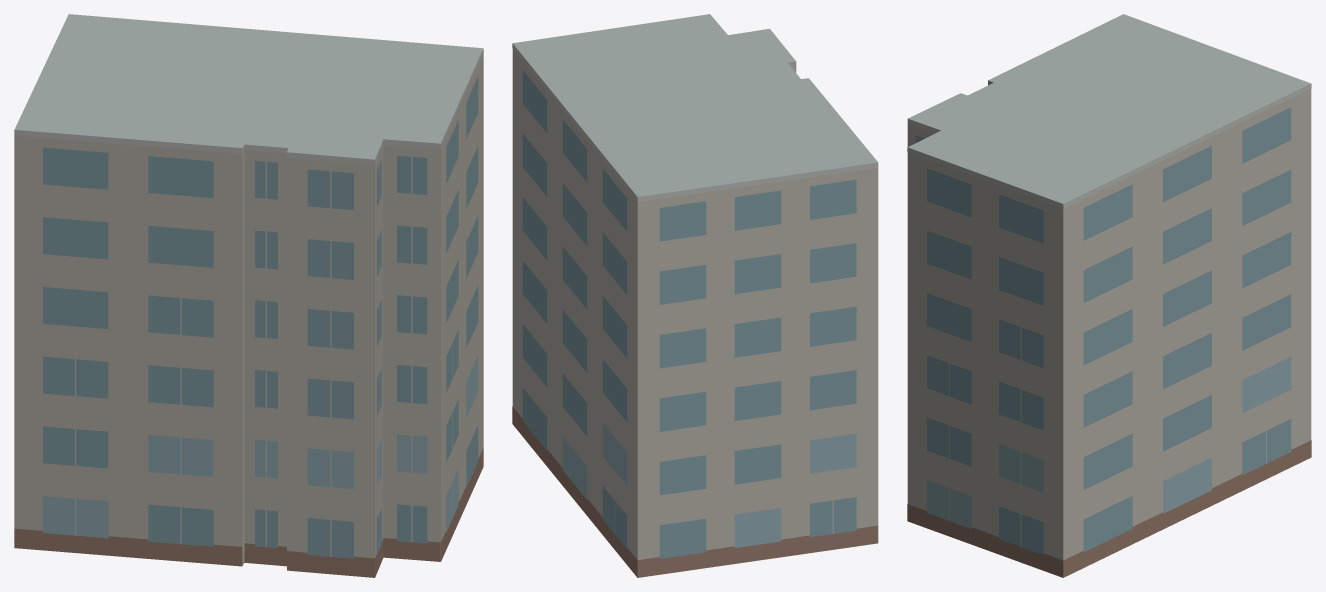
Rendered from survey-upis-32692857.glb.
3 renders of one model, left to right at view 1: azimuth 30°, elevation 25°; view 2: azimuth 150°, elevation 25°; view 3: azimuth 270°, elevation 25°, orthographic. The views are drawn at different scales.
Parts seen in each view (by area): view 1: survey-upis-32692857.tmp; view 2: survey-upis-32692857.tmp; view 3: survey-upis-32692857.tmp.
Boxes of the visible parts, x1,y1,x2,y2 form: survey-upis-32692857.tmp: (14, 14, 483, 577); survey-upis-32692857.tmp: (512, 14, 878, 577); survey-upis-32692857.tmp: (907, 14, 1311, 577).
Size of the model in its own units: 19.95 by 18.3 by 17.92.
